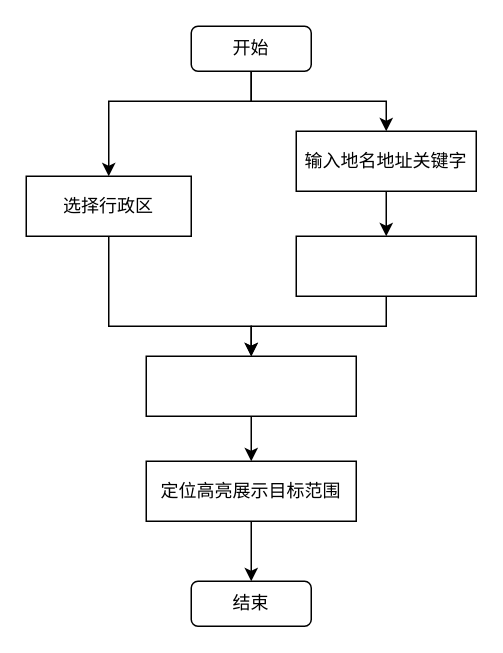
The diagram is 503 pixels wide and 653 high, and some of its shapes have lost their labels. The centre of each missing label's shape, as x and y in pixels:
"查询地名地址边界范围" goes at pixel 250 385.
"选择目标地名地址" goes at pixel 385 265.
